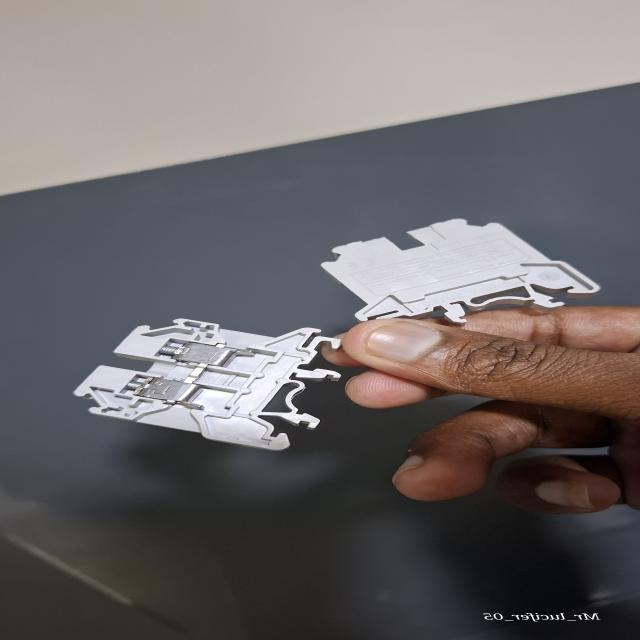Inverted: (322, 218, 604, 324)
Pass: (71, 318, 342, 448)
